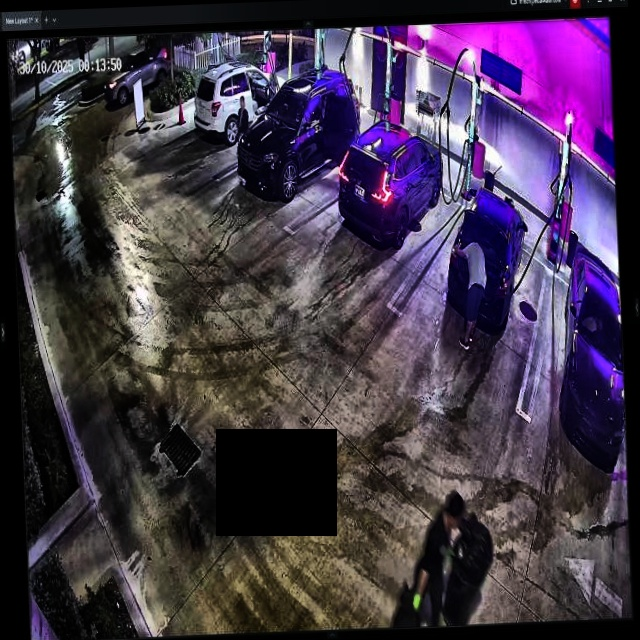Car: (235, 70, 361, 197), (335, 119, 447, 250), (446, 179, 530, 336), (192, 57, 289, 144)
